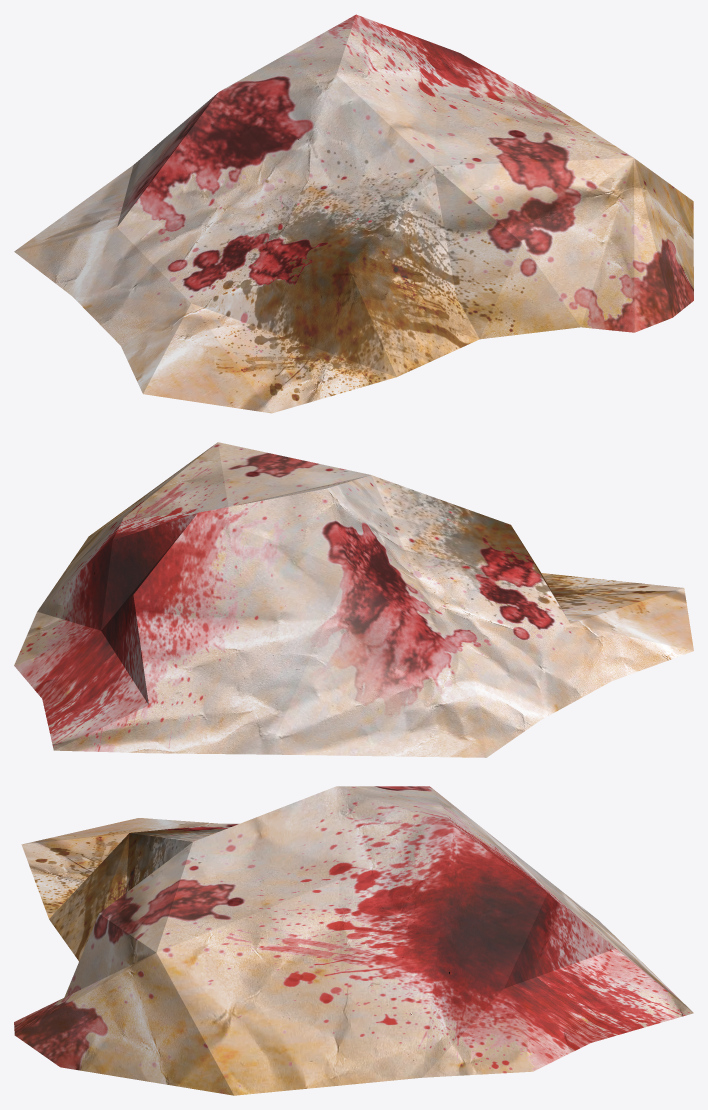
File: dirty_towel.FBX
3 renders of one model, top to bottom at view 1: azimuth 30°, elevation 25°; view 2: azimuth 150°, elevation 25°; view 3: azimuth 270°, elevation 25°, orthographic. The views are drawn at different scales.
Visible parts, largest first — view 1: dirty_towel; view 2: dirty_towel; view 3: dirty_towel.
Boxes of the visible parts, x1,y1,x2,y2 form: dirty_towel: (14, 14, 693, 413); dirty_towel: (14, 442, 693, 757); dirty_towel: (14, 786, 693, 1095).
Size of the model in its own units: 0.3377 by 0.0955 by 0.3352.
Materials: 1 (1 with a texture image).
